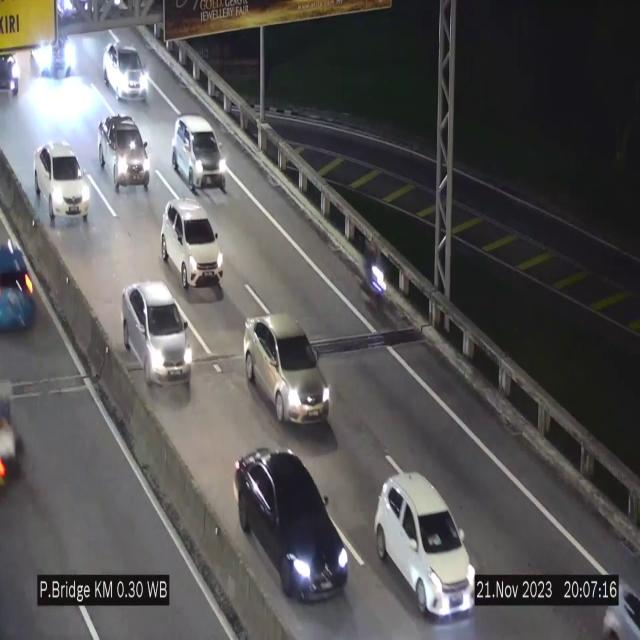Car: (234, 446, 350, 606), (375, 473, 475, 617), (244, 316, 330, 424), (123, 282, 193, 388), (161, 200, 223, 292), (32, 138, 91, 223), (0, 239, 44, 350), (172, 115, 226, 193), (99, 116, 150, 194), (103, 31, 149, 102), (33, 30, 83, 82), (0, 43, 28, 94)
Motorcycle: (360, 233, 389, 310)
